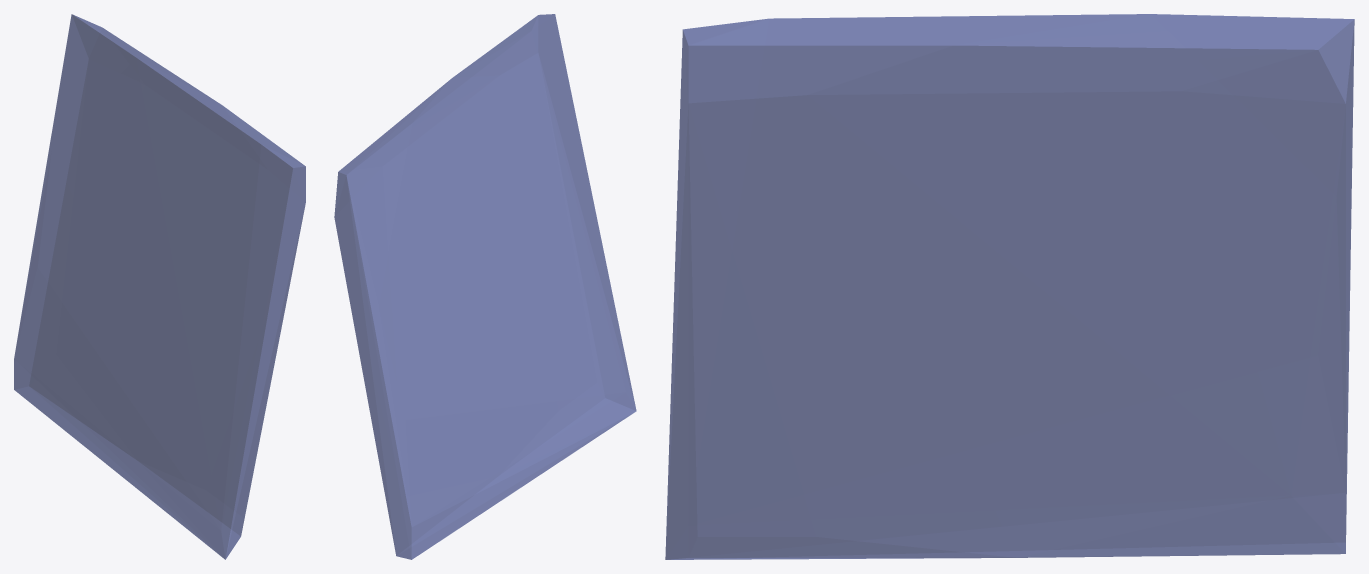
3 renders of one model, left to right at view 1: azimuth 30°, elevation 25°; view 2: azimuth 150°, elevation 25°; view 3: azimuth 270°, elevation 25°, orthographic. The views are drawn at different scales.
Visible parts, largest first — view 1: Shape_IndexedFaceSet.025; view 2: Shape_IndexedFaceSet.025; view 3: Shape_IndexedFaceSet.025.
Part boxes in pixels (x1,y1,x2,y2): Shape_IndexedFaceSet.025: (14,14,305,559); Shape_IndexedFaceSet.025: (334,14,636,559); Shape_IndexedFaceSet.025: (665,14,1354,559).
Size of the model in its own units: 0.1238 by 0.5062 by 0.5313.
